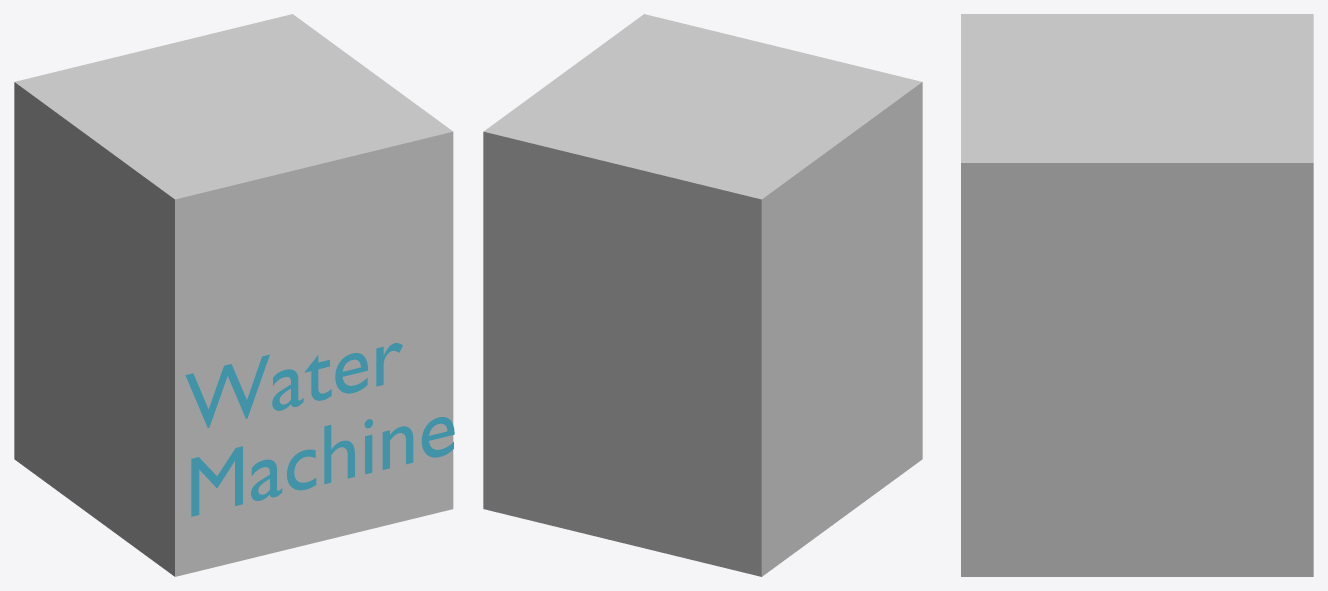
The model's file is WaterMachine.fbx.
3 views of the same model, side by side, from view 1: azimuth 30°, elevation 25°; view 2: azimuth 150°, elevation 25°; view 3: azimuth 270°, elevation 25° (orthographic). The views are drawn at different scales.
Parts seen in each view (by area): view 1: Cube, Text; view 2: Cube; view 3: Cube.
Part boxes in pixels (x1,y1,x2,y2): Cube: (14, 14, 453, 576); Text: (185, 343, 454, 516); Cube: (483, 14, 922, 576); Cube: (961, 14, 1313, 576).
Bounding box in the file's own units: 200 × 259 × 206.
